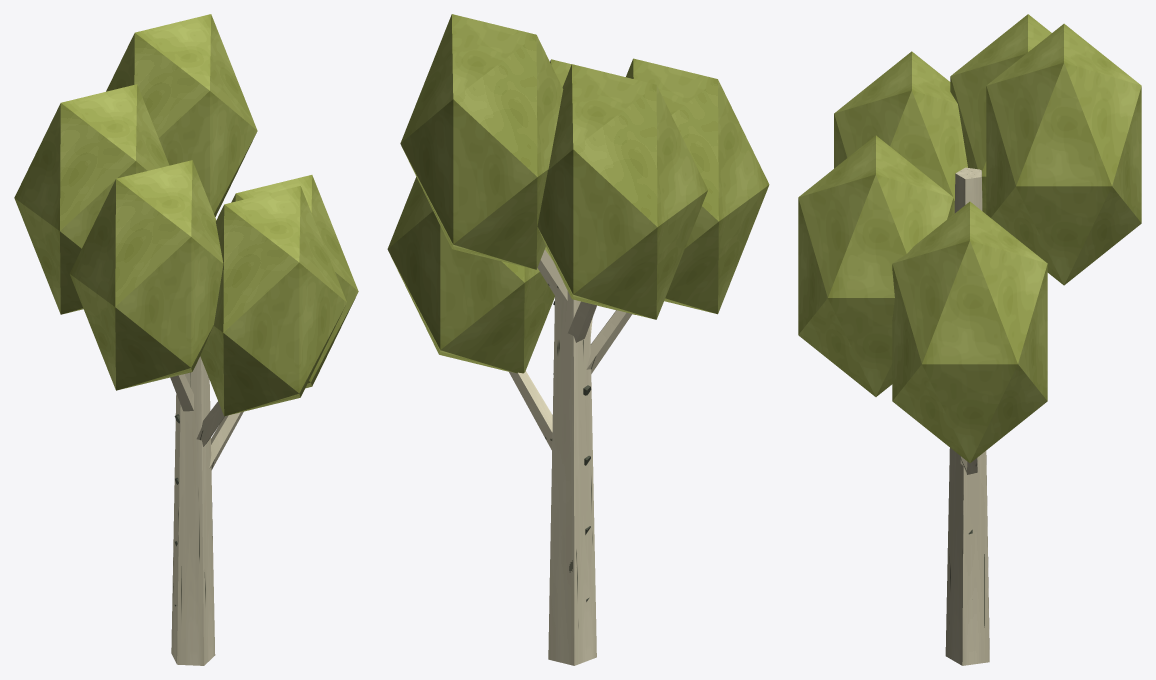
Rendered from arvore-betula-v03.gltf.
3 views of the same model, side by side, from view 1: azimuth 30°, elevation 25°; view 2: azimuth 150°, elevation 25°; view 3: azimuth 270°, elevation 25° (orthographic). The views are drawn at different scales.
Parts seen in each view (by area): view 1: tronco-galhos-copa; view 2: tronco-galhos-copa; view 3: tronco-galhos-copa.
Part boxes in pixels (box(x1,y1,x2,y2)): tronco-galhos-copa: box(14, 14, 358, 665); tronco-galhos-copa: box(387, 14, 769, 665); tronco-galhos-copa: box(798, 14, 1141, 665).
Bounding box in the file's own units: 2.16 × 4.54 × 2.26.
1 material, 1 textured.
